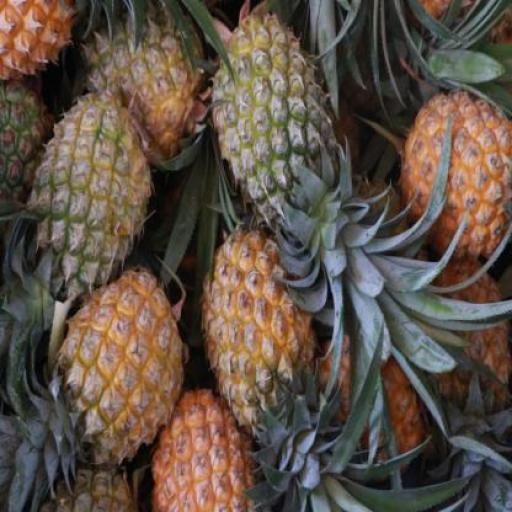------------------------------: (214, 8, 334, 222), (35, 98, 143, 293), (85, 0, 205, 158)
Pineapple - v8 v1: (67, 270, 191, 468), (200, 234, 318, 432), (400, 84, 512, 263), (150, 391, 262, 512)
